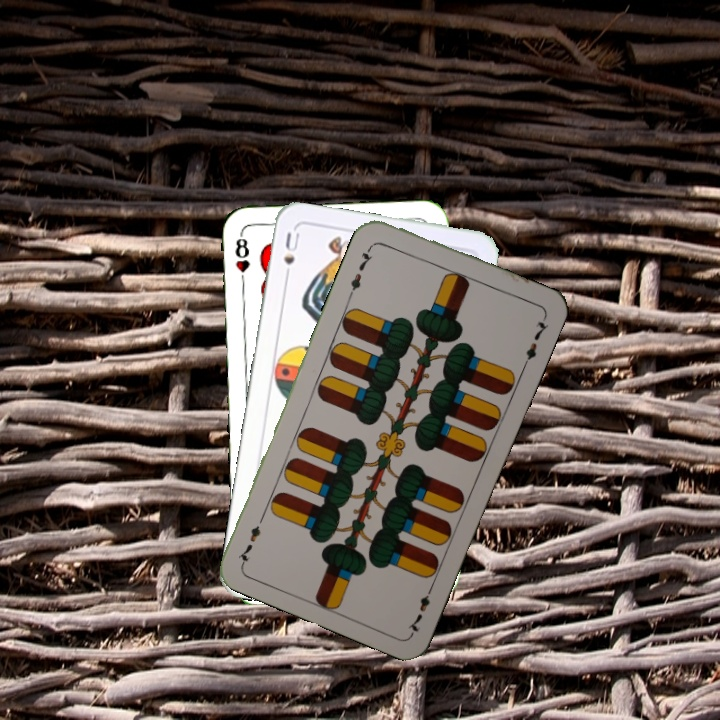E7: (403, 580, 437, 636), (346, 240, 376, 297)
H8: (230, 230, 252, 289)
SU: (279, 228, 302, 285)
